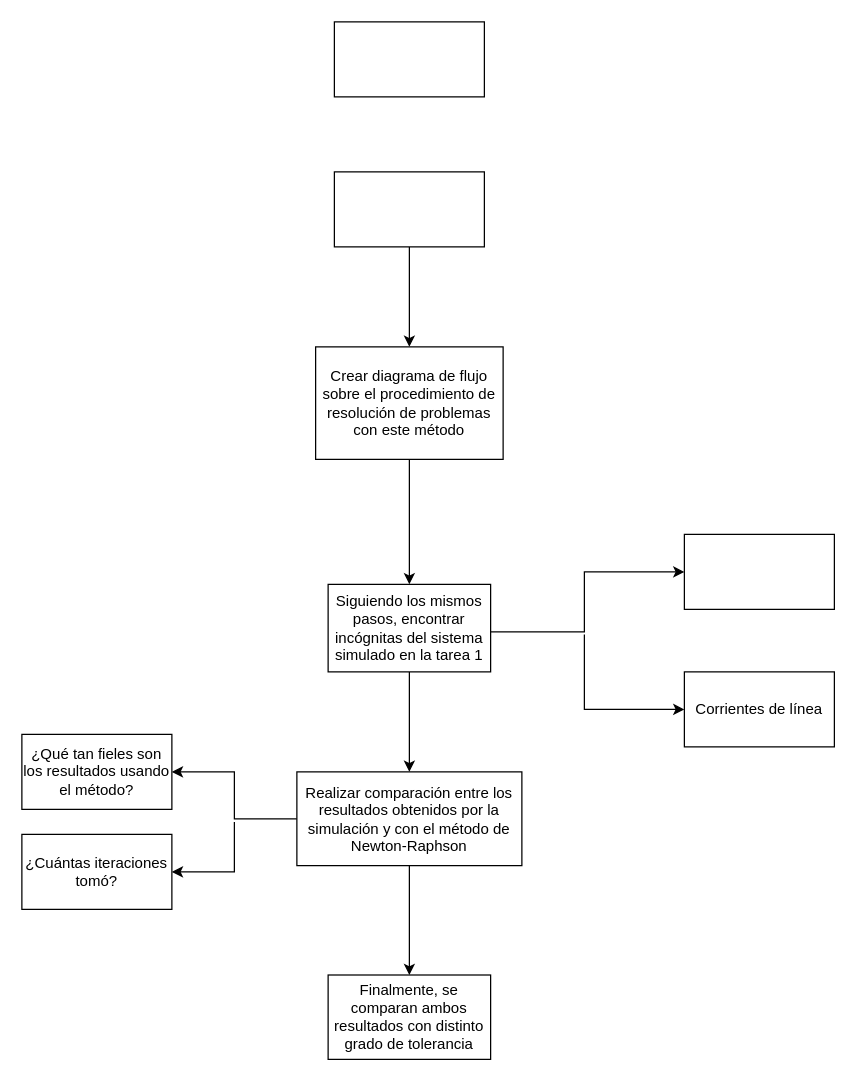
The diagram is 856 pixels wide and 1081 high, and some of its shapes have lost their labels. The box of each missing label's shape, as (x1, y1, x2, y2) in pixels:
Buscar información acerca del método iterativo de Newton-Raphson: (333, 21, 484, 97)
Realizar demostración del método: (333, 171, 484, 247)
Tensión en las barras: (683, 533, 834, 609)
